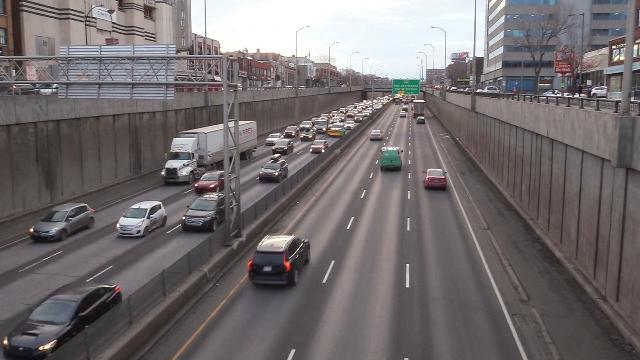car: (3, 281, 126, 360), (248, 232, 312, 287), (27, 200, 98, 246), (115, 200, 169, 242), (182, 191, 233, 234), (192, 170, 234, 196), (258, 154, 290, 184), (422, 169, 448, 189), (272, 138, 294, 155), (310, 139, 329, 155), (265, 133, 284, 146), (328, 124, 346, 137), (284, 125, 300, 138), (300, 129, 316, 142), (370, 130, 384, 141), (299, 121, 314, 131), (343, 121, 356, 130), (330, 116, 343, 125), (415, 117, 428, 125), (362, 110, 373, 118), (346, 110, 357, 118), (358, 103, 369, 111), (320, 114, 330, 122), (353, 115, 364, 122), (329, 112, 339, 119), (399, 110, 407, 118), (310, 117, 319, 124), (401, 105, 409, 112), (372, 104, 380, 111), (338, 108, 347, 114), (395, 99, 402, 105), (410, 95, 416, 101), (352, 109, 358, 114), (404, 100, 408, 104)
truck: (161, 119, 259, 186), (413, 99, 425, 118), (314, 120, 330, 132)
van: (378, 147, 406, 172)
